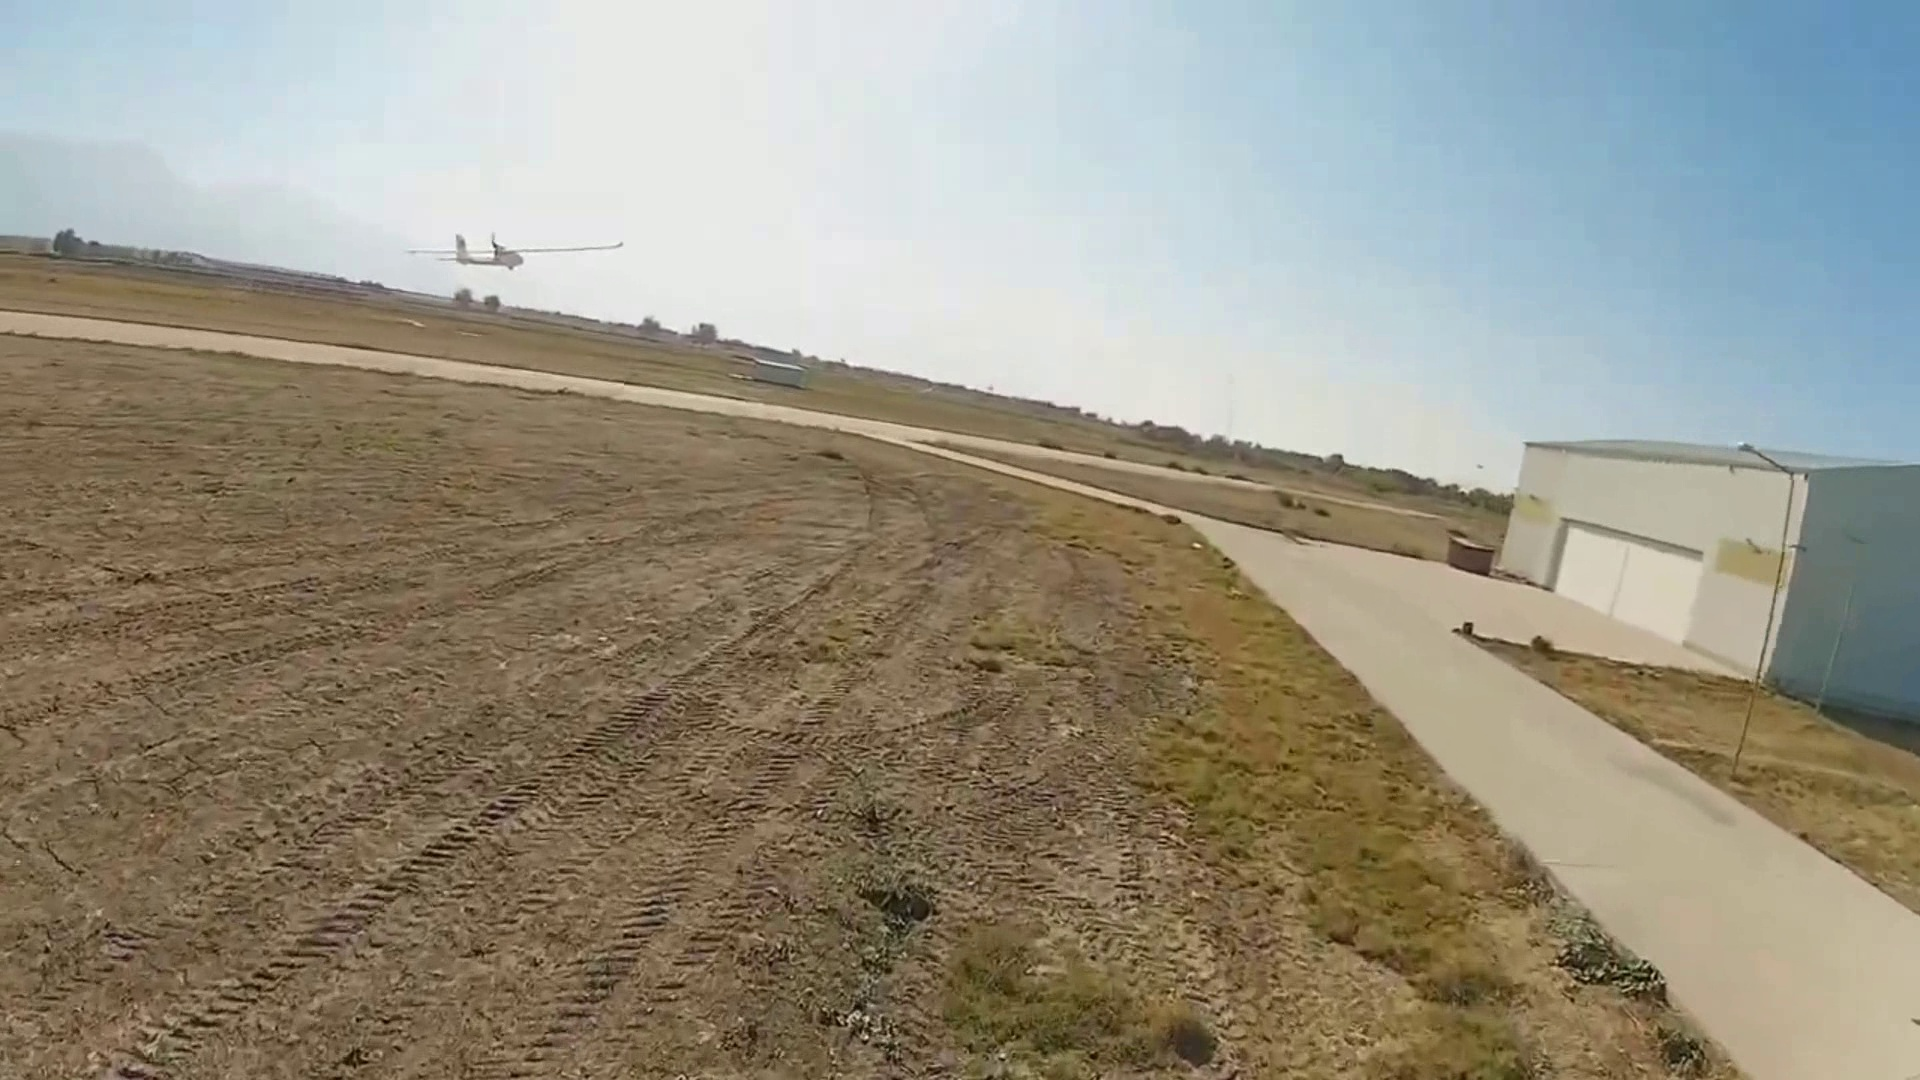airplane: (442, 216, 626, 268)
